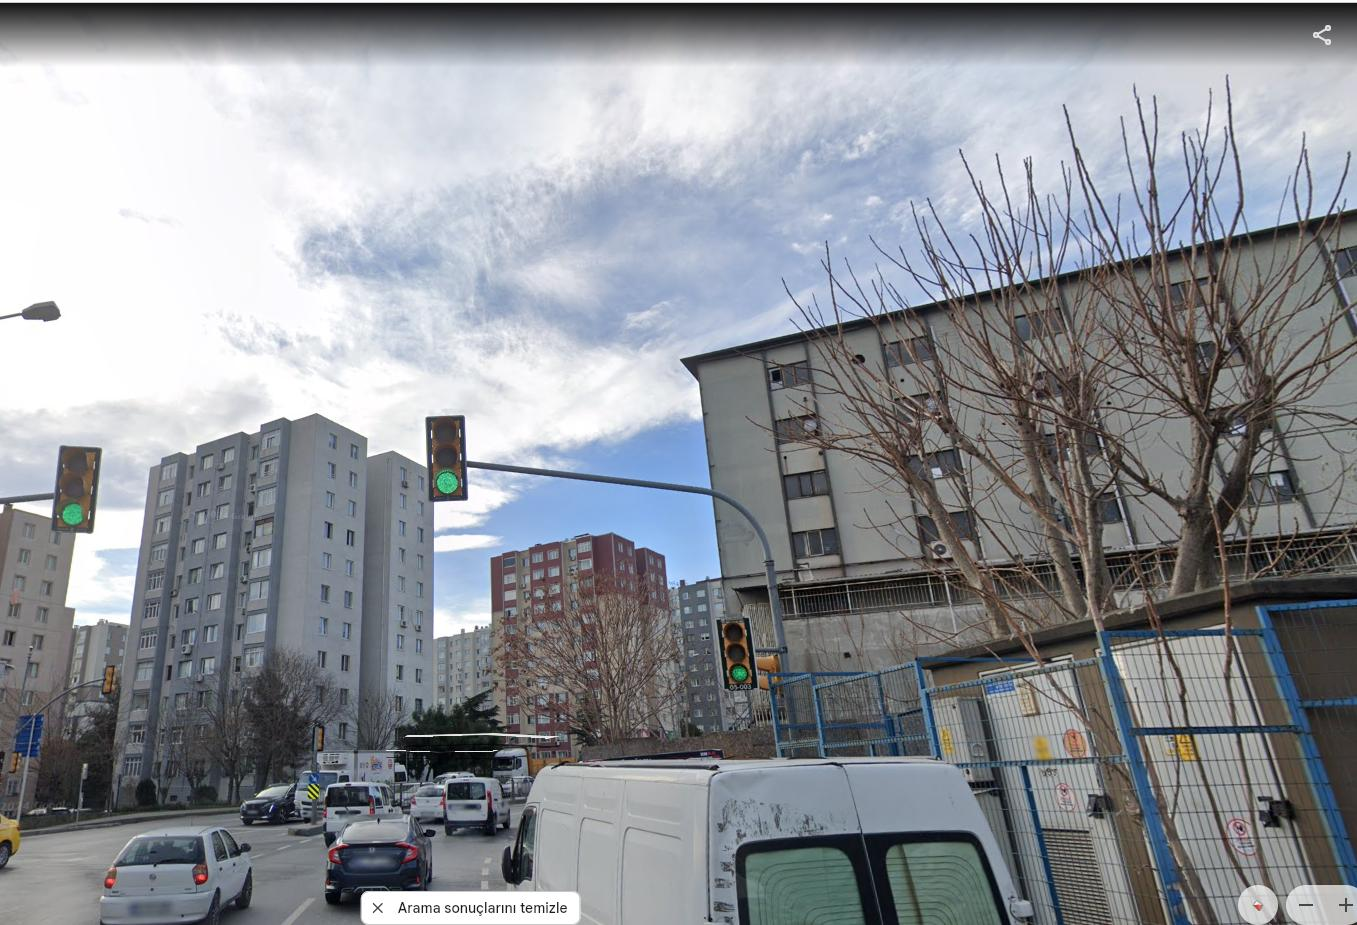greenlight: (426, 415, 463, 494), (59, 445, 89, 528), (720, 621, 754, 684)
